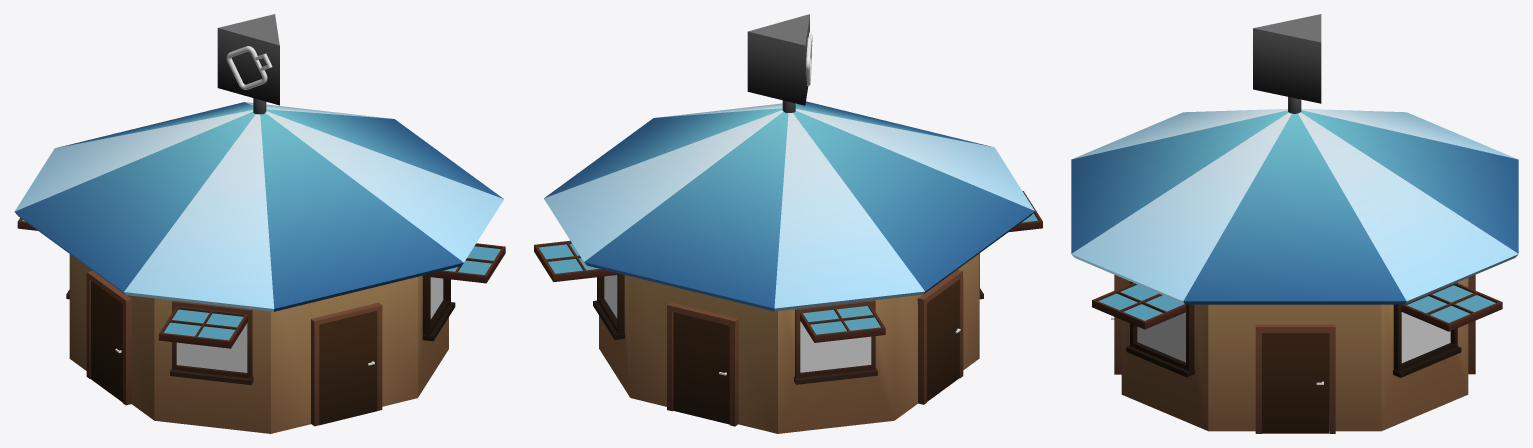
The model's file is BAR (DA FINIRE).fbx.
3 renders of one model, left to right at view 1: azimuth 30°, elevation 25°; view 2: azimuth 150°, elevation 25°; view 3: azimuth 270°, elevation 25°, orthographic.
Visible parts, largest first — view 1: Bar, Door.001, Insegna, Cube, Door, Finestra.002, Cube.004, Finestra.003, Cube.008; view 2: Bar, Door.003, Insegna, Cube, Door, Finestra.001, Cube.007, Finestra, Cube.002; view 3: Bar, Door.002, Insegna, Cube, Finestra, Finestra.003, Cube.008, Cube.002.
Boxes of the visible parts, box(x1,y1,x2,y2) form: Bar: box(14, 102, 503, 433); Door.001: box(319, 310, 377, 425); Insegna: box(217, 14, 279, 105); Cube: box(86, 270, 382, 426); Door: box(90, 281, 122, 402); Finestra.002: box(159, 306, 247, 348); Cube.004: box(170, 300, 253, 384); Finestra.003: box(430, 243, 505, 283); Cube.008: box(422, 273, 455, 341); Bar: box(544, 101, 1034, 433); Door.003: box(673, 312, 729, 424); Insegna: box(747, 14, 812, 105); Cube: box(667, 269, 963, 426); Door: box(927, 280, 960, 401); Finestra.001: box(800, 305, 885, 342); Cube.007: box(794, 300, 877, 384); Finestra: box(534, 240, 617, 282); Cube.002: box(593, 273, 624, 339); Bar: box(1071, 108, 1518, 431); Door.002: box(1262, 333, 1328, 433); Insegna: box(1253, 14, 1321, 103); Cube: box(1114, 275, 1475, 433); Finestra: box(1401, 282, 1502, 331); Finestra.003: box(1092, 282, 1186, 329); Cube.008: box(1126, 281, 1194, 377); Cube.002: box(1393, 282, 1461, 377).
Bounding box in the file's own units: 258 × 210 × 258.
2 materials, 1 textured.
